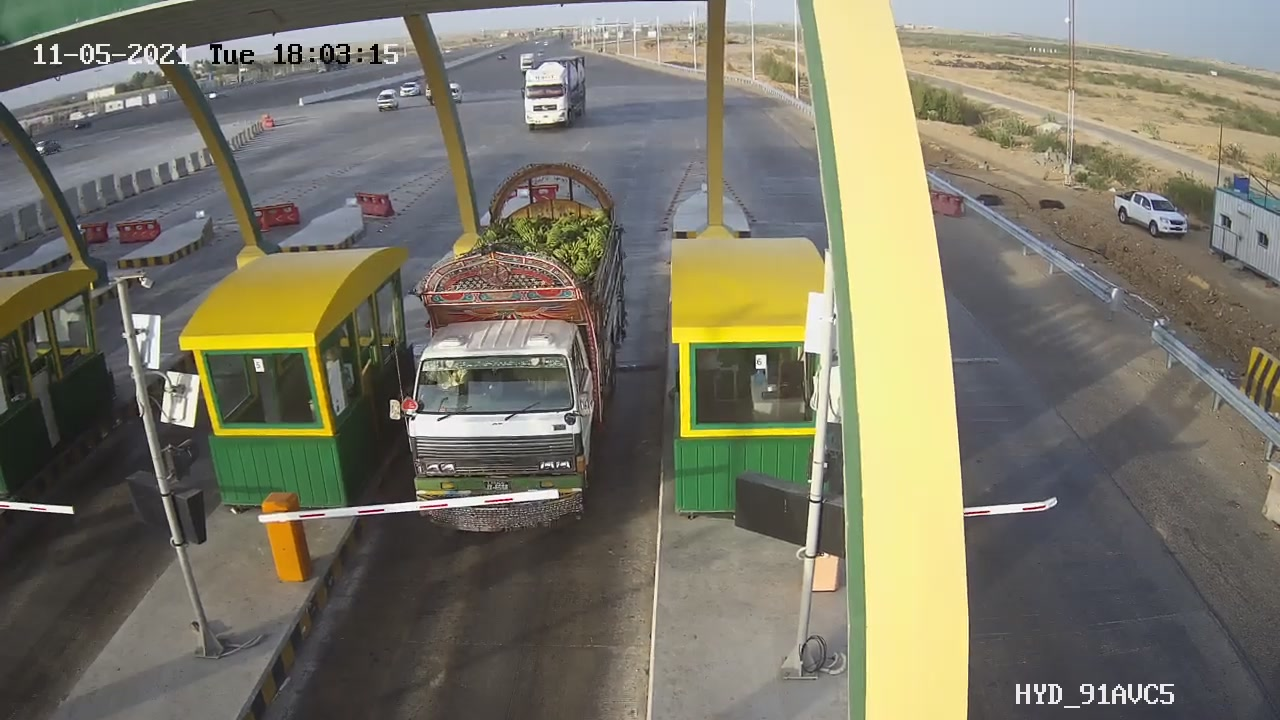F5: (363, 151, 656, 565)
